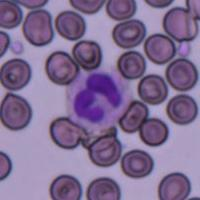N: (66, 66, 132, 134)
